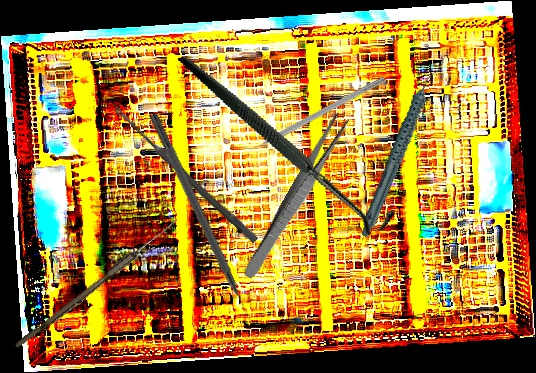Chopper: (238, 68, 387, 157)
Dressing Forceps: (241, 111, 352, 283)
Handpiece: (328, 65, 473, 239)
Hook Surgical: (177, 5, 400, 277), (147, 111, 258, 331)
Surgical Spoon: (14, 215, 180, 353), (111, 105, 260, 244)
